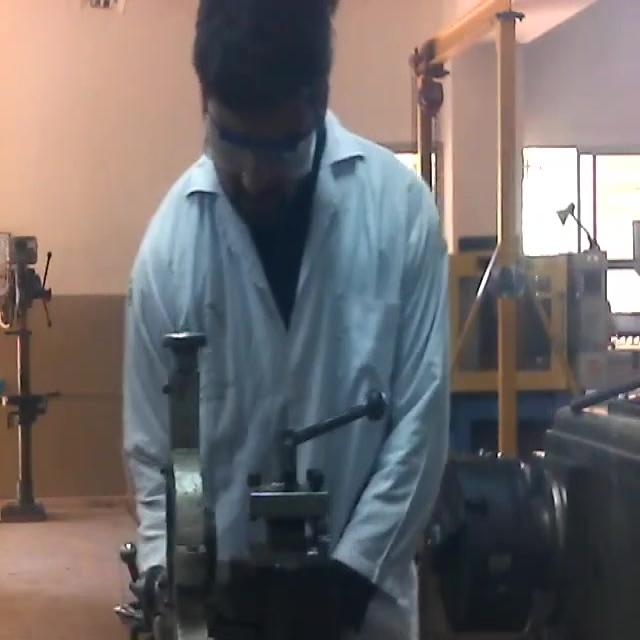googles: (192, 106, 324, 206)
labcoat: (122, 106, 455, 640)
